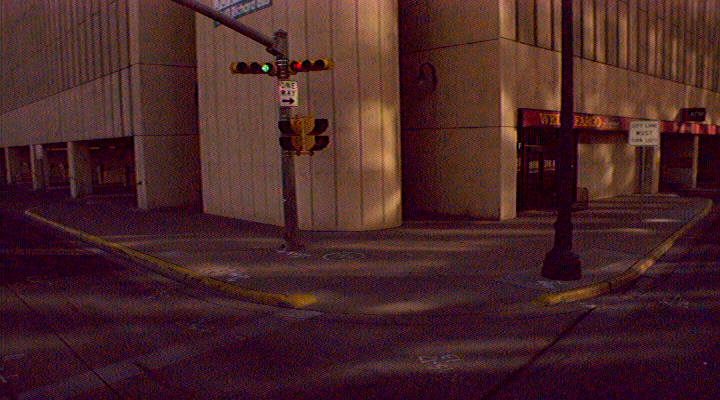Ramp: (292, 253, 573, 325)
